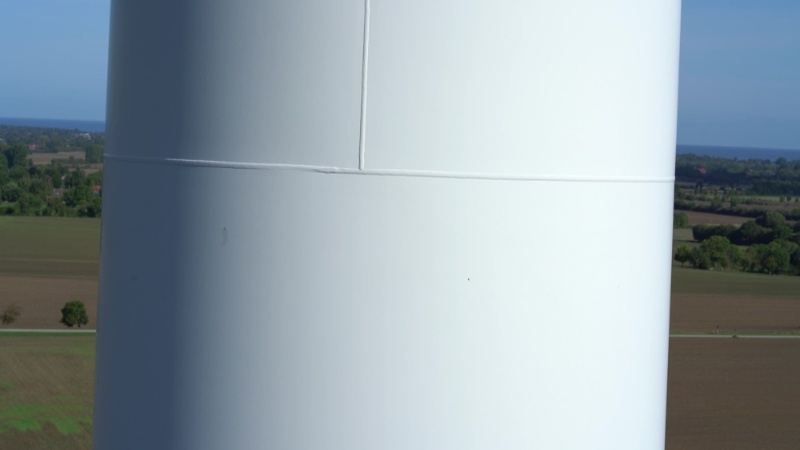weldseam: (101, 145, 677, 189), (355, 1, 373, 182)
